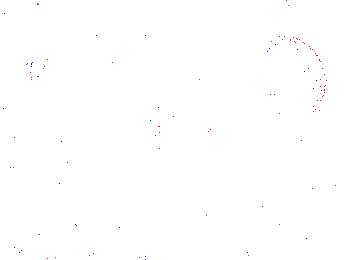moon jellyfish: (146, 75, 262, 175), (244, 34, 327, 121), (76, 7, 178, 68), (1, 8, 50, 83)
